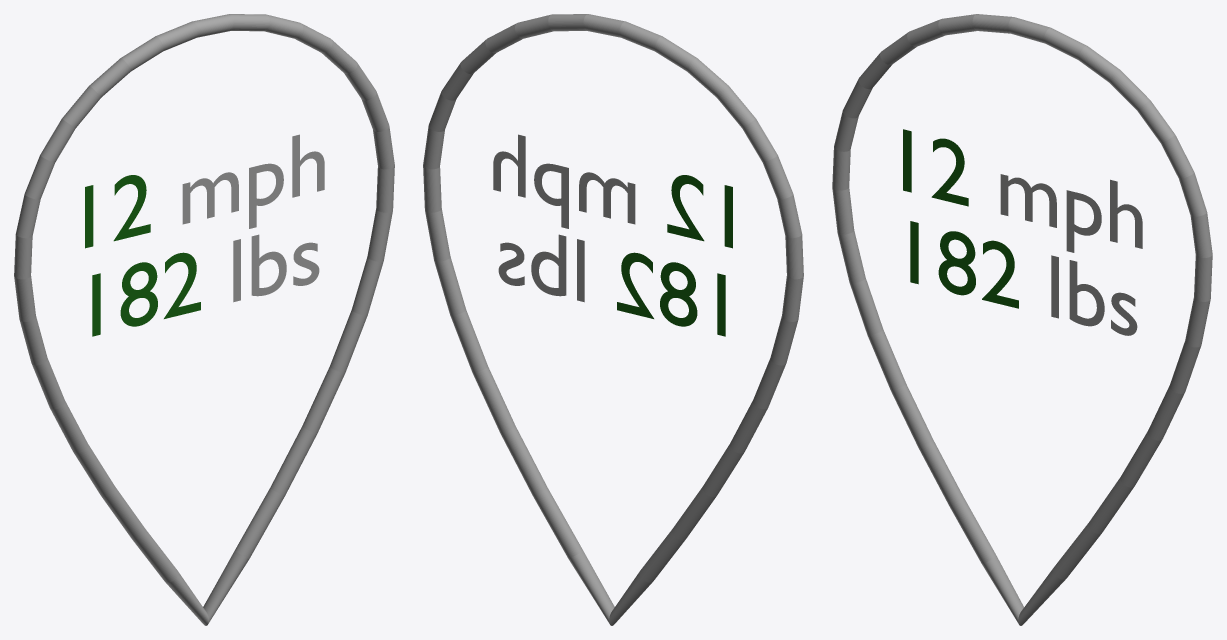
The model's file is Player-sign.obj.
3 views of the same model, side by side, from view 1: azimuth 30°, elevation 25°; view 2: azimuth 150°, elevation 25°; view 3: azimuth 330°, elevation 25° (orthographic).
Parts seen in each view (by area): view 1: Text.004_CU12mph.004; view 2: Text.004_CU12mph.004; view 3: Text.004_CU12mph.004.
Part boxes in pixels (x1,y1,x2,y2): Text.004_CU12mph.004: [14, 14, 394, 625]; Text.004_CU12mph.004: [423, 14, 803, 625]; Text.004_CU12mph.004: [832, 14, 1212, 625].
Size of the model in its own units: 0.5489 by 0.8394 by 0.0214.
